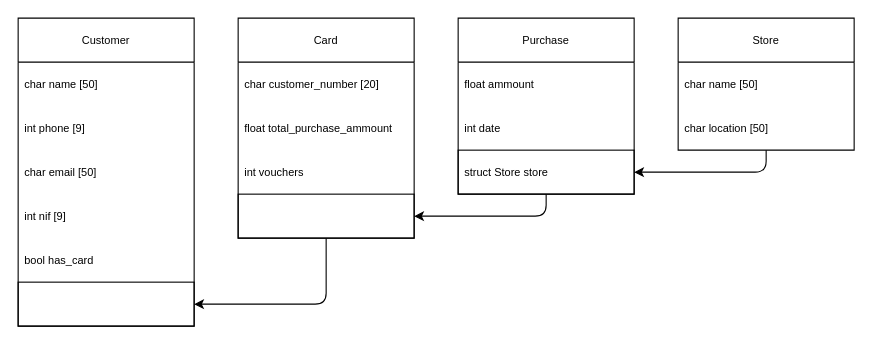
Some shapes in this 872 by 344 pixel diagram are drawn without their labels. The shapes that lost their labels are listed below. From the top down, each one's centre as x and y in pixels, then its label:
the point at 325,215: struct Purchase purchases [1000]
the point at 105,303: struct Card card
